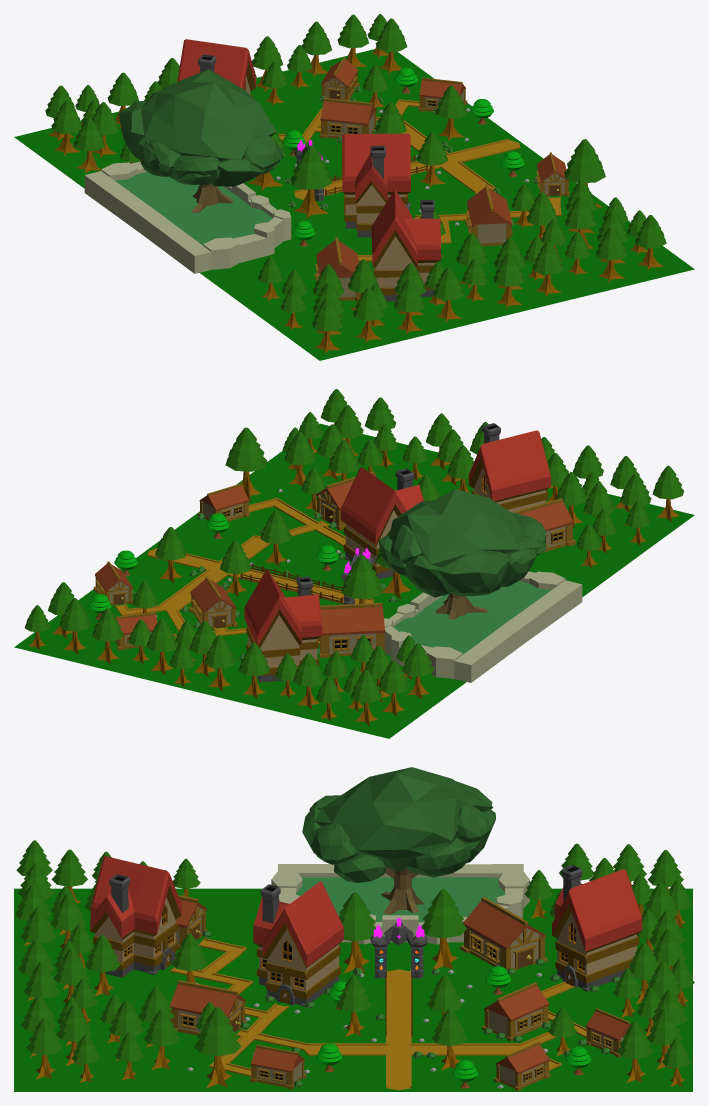
File: environmentFinished.fbx
The picture shows the model from 3 angles, top to bottom: view 1: azimuth 30°, elevation 25°; view 2: azimuth 150°, elevation 25°; view 3: azimuth 270°, elevation 25°; orthographic projection. The views are drawn at different scales.
Parts seen in each view (by area): view 1: floor, Cylinder.061, Icosphere, Cube, paths; view 2: Cylinder.061, floor, Cube, Icosphere, paths, Icosphere.034; view 3: floor, Cylinder.061, Cube, Icosphere, paths, portal, Icosphere.034.
Boxes of the visible parts, x1,y1,x2,y2 form: floor: [14, 49, 694, 360]; Cylinder.061: [45, 14, 666, 353]; Icosphere: [84, 69, 291, 273]; Cube: [177, 39, 569, 301]; paths: [278, 99, 561, 261]; Cylinder.061: [24, 389, 683, 725]; floor: [14, 423, 694, 738]; Cube: [93, 423, 575, 682]; Icosphere: [378, 489, 582, 682]; paths: [115, 497, 373, 639]; Icosphere.034: [132, 510, 396, 659]; floor: [14, 888, 692, 1091]; Cylinder.061: [15, 840, 694, 1088]; Cube: [90, 856, 642, 1091]; Icosphere: [271, 767, 529, 944]; paths: [169, 938, 586, 1090]; portal: [370, 918, 427, 978]; Icosphere.034: [198, 930, 620, 1087].
Bounding box in the file's own units: 7576 × 2607 × 10533.
